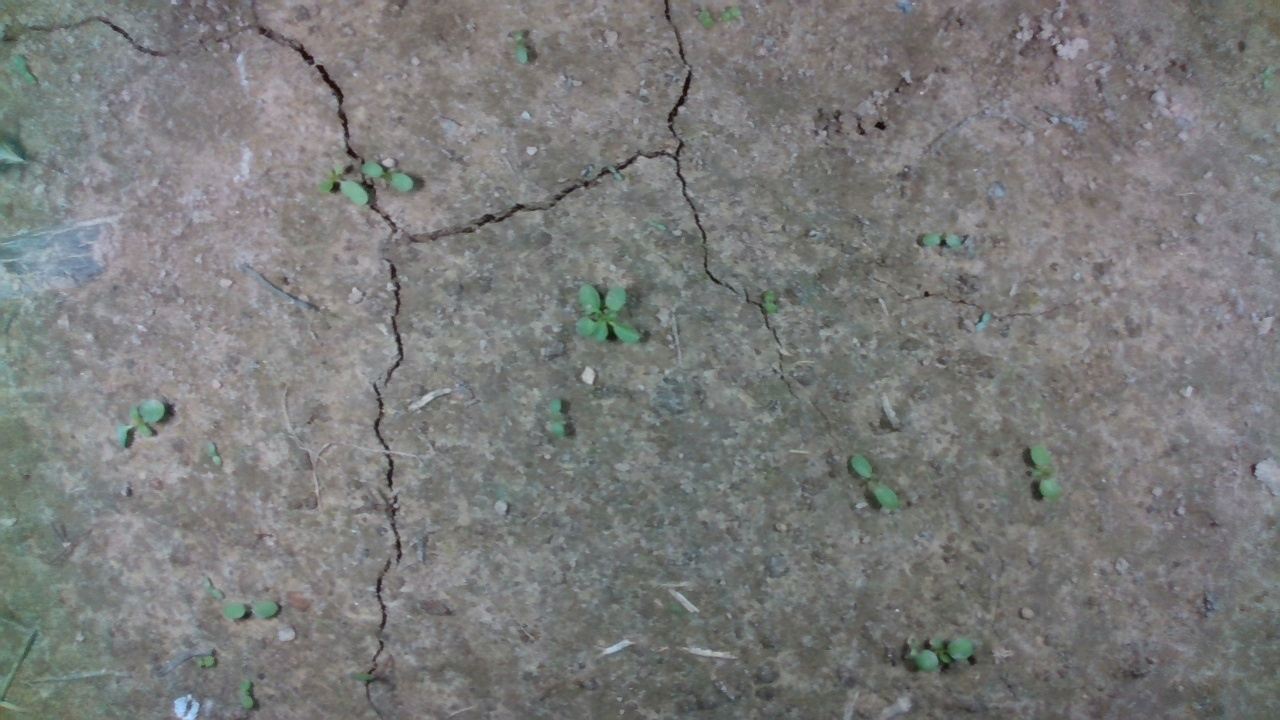weed: (845, 451, 911, 515), (113, 398, 166, 449), (1023, 444, 1064, 504), (360, 160, 414, 192), (222, 597, 281, 620), (544, 395, 572, 441), (506, 24, 539, 57), (203, 439, 235, 472), (911, 226, 968, 243), (200, 574, 230, 599), (237, 677, 256, 710), (762, 289, 781, 315)
